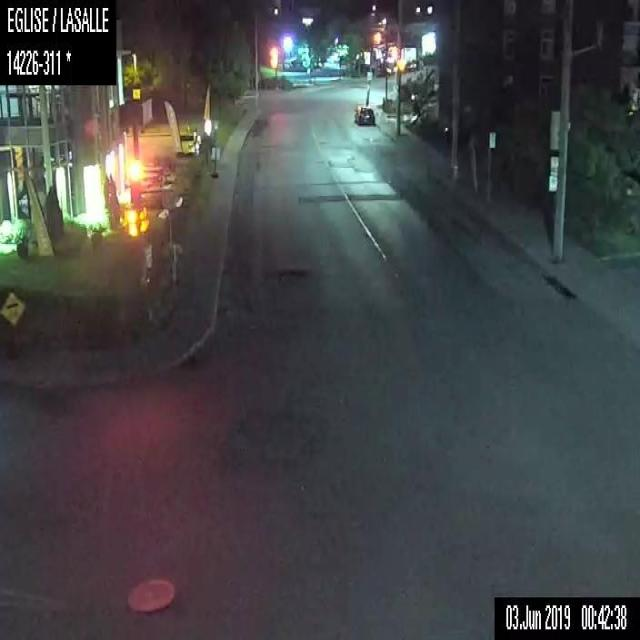vehicle: (174, 126, 202, 157), (354, 104, 376, 124)
